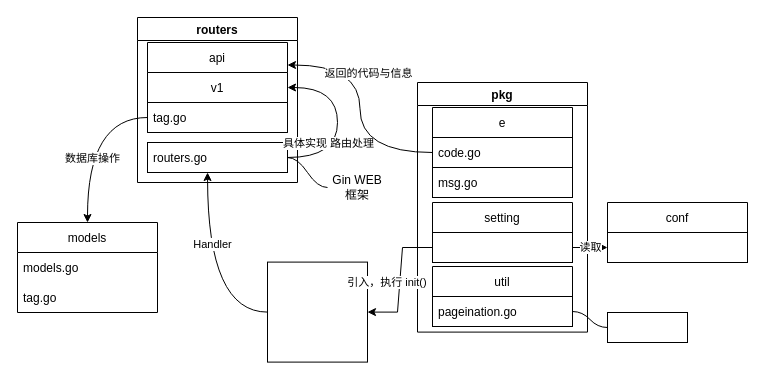
Image size: 765x380. Some labels were removed from this diagram. The centre of each missing label's shape, as x and y in pixels:
"app.ini" belongs at point 677,247.
"main.go ListenAndServe()" belongs at point 317,311.
"setting.go" belongs at point 502,247.
"接收页数计算起始坐标" belongs at point 647,327.
